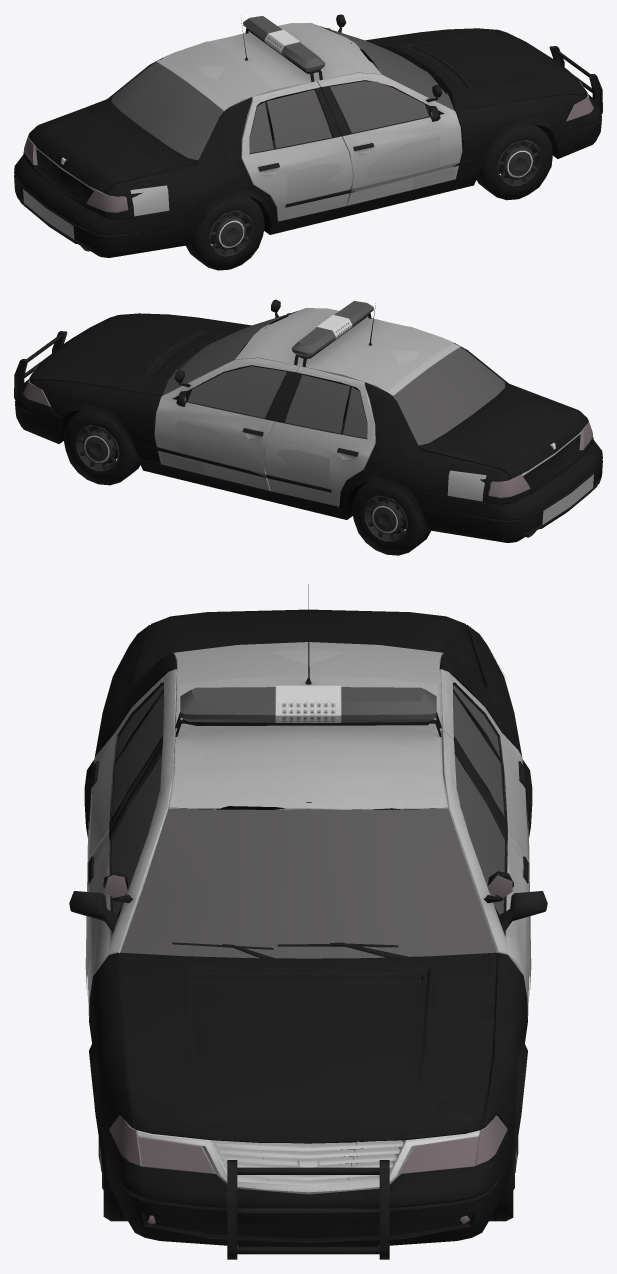
File: civ-police.lod0.glb
The picture shows the model from 3 angles, top to bottom: view 1: azimuth 30°, elevation 25°; view 2: azimuth 150°, elevation 25°; view 3: azimuth 270°, elevation 25°; orthographic projection. The views are drawn at different scales.
Parts seen in each view (by area): view 1: police_sedan_police_sedan_0, police_sedan_police_glass_0; view 2: police_sedan_police_sedan_0, police_sedan_police_glass_0; view 3: police_sedan_police_sedan_0, police_sedan_police_glass_0.
Boxes of the visible parts, <box> form: police_sedan_police_sedan_0: <box>14,14,602,270</box>; police_sedan_police_glass_0: <box>23,16,593,239</box>; police_sedan_police_sedan_0: <box>14,299,602,555</box>; police_sedan_police_glass_0: <box>23,301,593,524</box>; police_sedan_police_sedan_0: <box>69,584,547,1259</box>; police_sedan_police_glass_0: <box>85,642,531,1224</box>.
Bounding box in the file's own units: 5.17 × 1.88 × 2.
2 materials, 1 textured.
